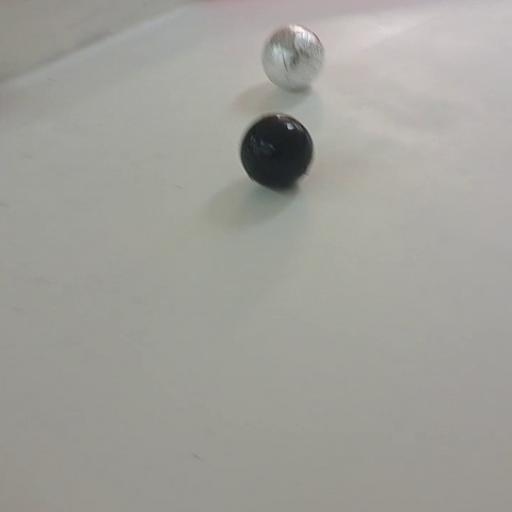alive: (260, 24, 326, 92)
dead: (239, 112, 316, 190)
